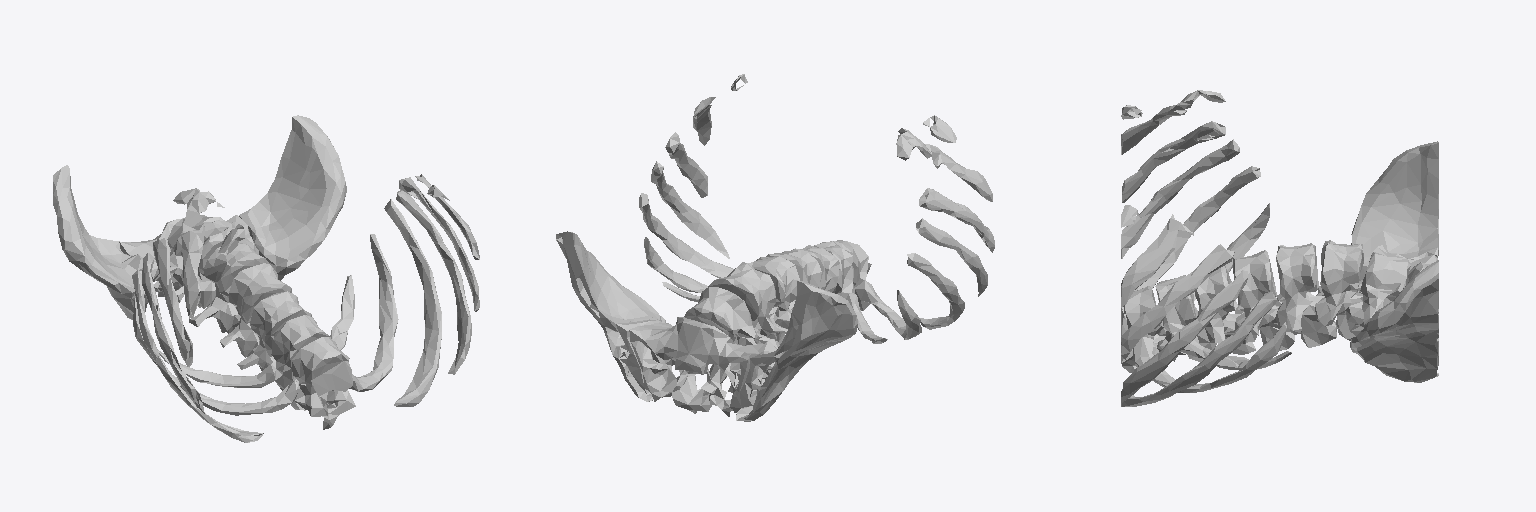
Rendered from esqueleto3.obj.
3 views of the same model, side by side, from view 1: azimuth 30°, elevation 25°; view 2: azimuth 150°, elevation 25°; view 3: azimuth 270°, elevation 25° (orthographic).
Size of the model in its own units: 306 by 229 by 280.